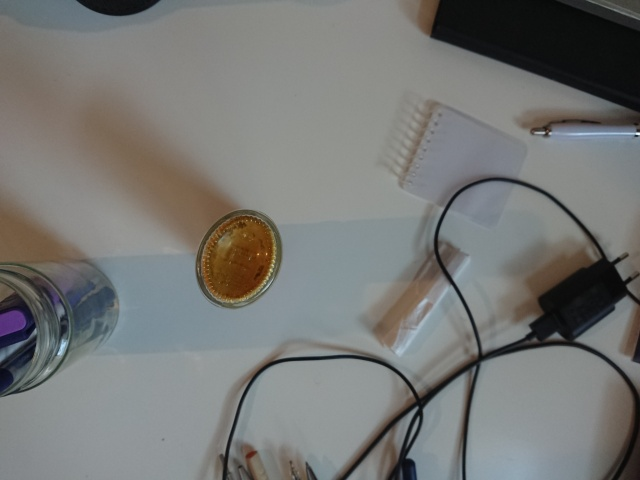Kotanyi Curry Spices Mix 70g: (193, 207, 287, 314)
